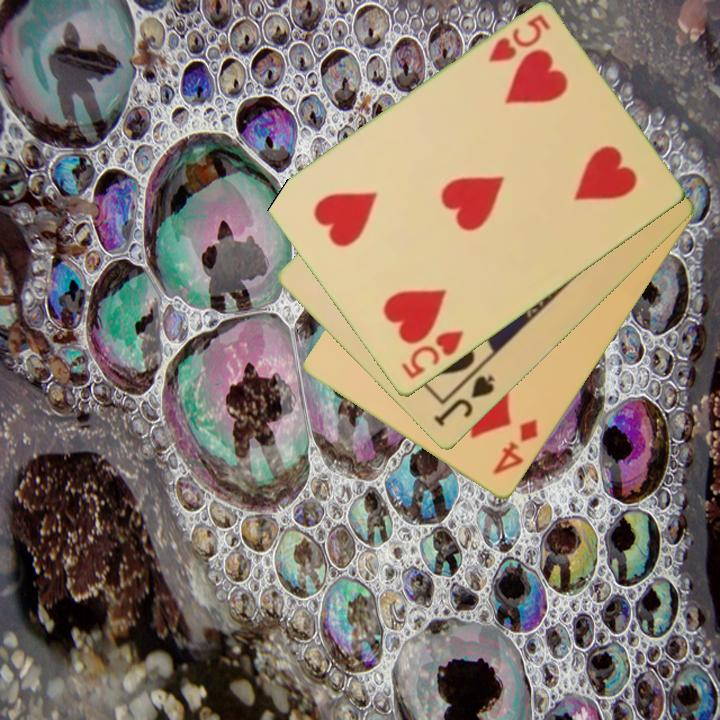4d: (489, 415, 541, 479)
5h: (397, 327, 467, 383), (484, 11, 553, 66)
Js: (430, 372, 499, 431)
